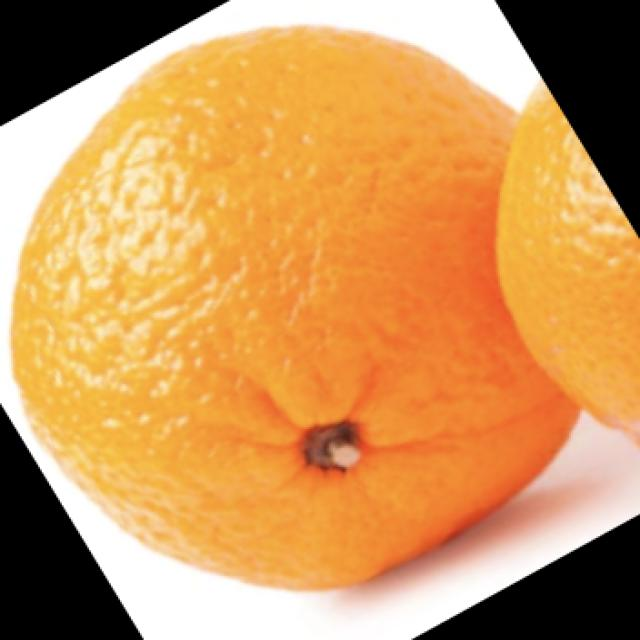matang: (10, 26, 577, 583), (501, 72, 640, 468)
